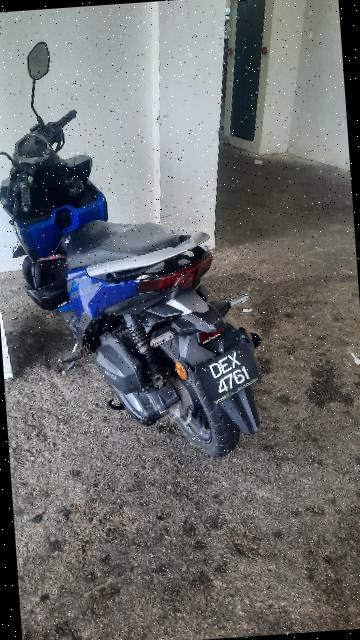License_Plate: (193, 338, 270, 407)
motorcycle: (1, 22, 280, 478)
